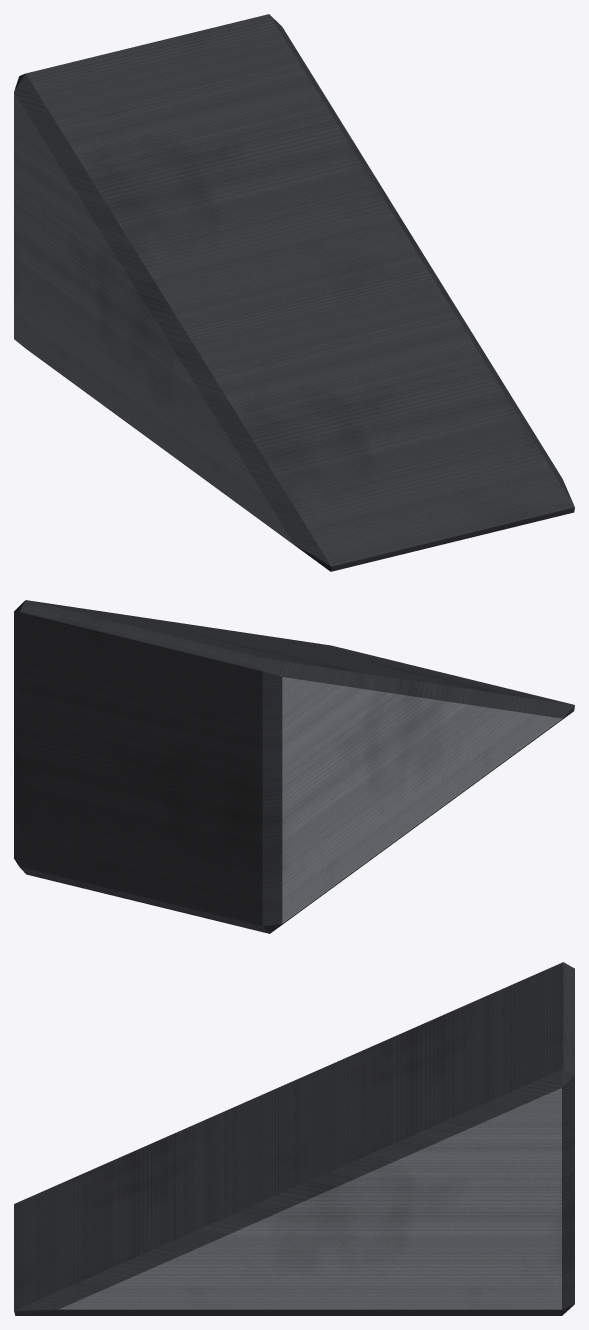
File: R4B_LongWedge_LOD1.glb
The picture shows the model from 3 angles, top to bottom: view 1: azimuth 30°, elevation 25°; view 2: azimuth 150°, elevation 25°; view 3: azimuth 270°, elevation 25°; orthographic projection. The views are drawn at different scales.
Visible parts, largest first — view 1: R4B_LongWedge_LOD1; view 2: R4B_LongWedge_LOD1; view 3: R4B_LongWedge_LOD1.
Part boxes in pixels (bbox=[...]): R4B_LongWedge_LOD1: bbox=[14, 14, 574, 571]; R4B_LongWedge_LOD1: bbox=[14, 600, 574, 933]; R4B_LongWedge_LOD1: bbox=[14, 962, 574, 1315].
Bounding box in the file's own units: 0.52 × 0.5095 × 1.05.
2 materials, 2 textured.
